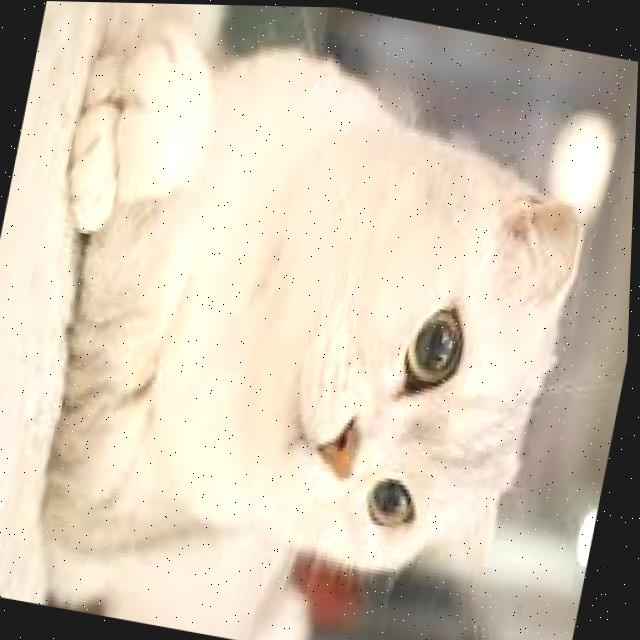Scottish Fold: (0, 0, 626, 640)
